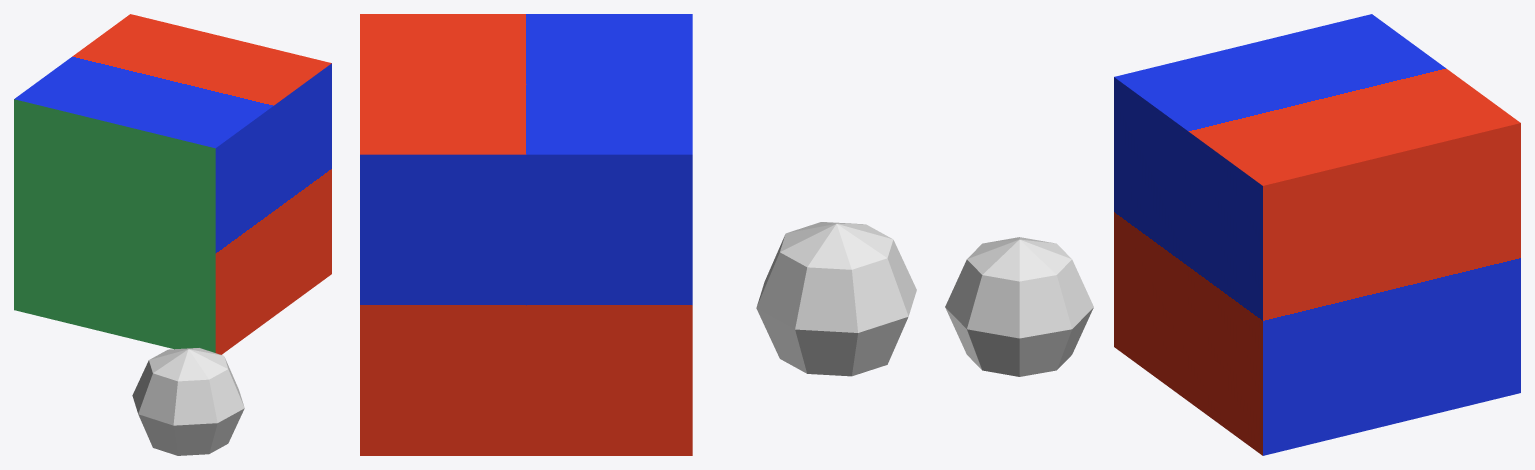
The model's file is crate.glb.
3 views of the same model, side by side, from view 1: azimuth 30°, elevation 25°; view 2: azimuth 150°, elevation 25°; view 3: azimuth 270°, elevation 25° (orthographic). The views are drawn at different scales.
Visible parts, largest first — view 1: Crate, Knob; view 2: Crate, Knob; view 3: Crate, Knob.
Part boxes in pixels (x1,y1,x2,y2): Crate: (14,14,331,354); Knob: (132,348,244,455); Crate: (360,14,692,455); Knob: (756,222,916,376); Crate: (1114,14,1520,455); Knob: (945,237,1093,376).
Bounding box in the file's own units: 2.87 × 2.5 × 3.87.
2 materials, 1 textured.
